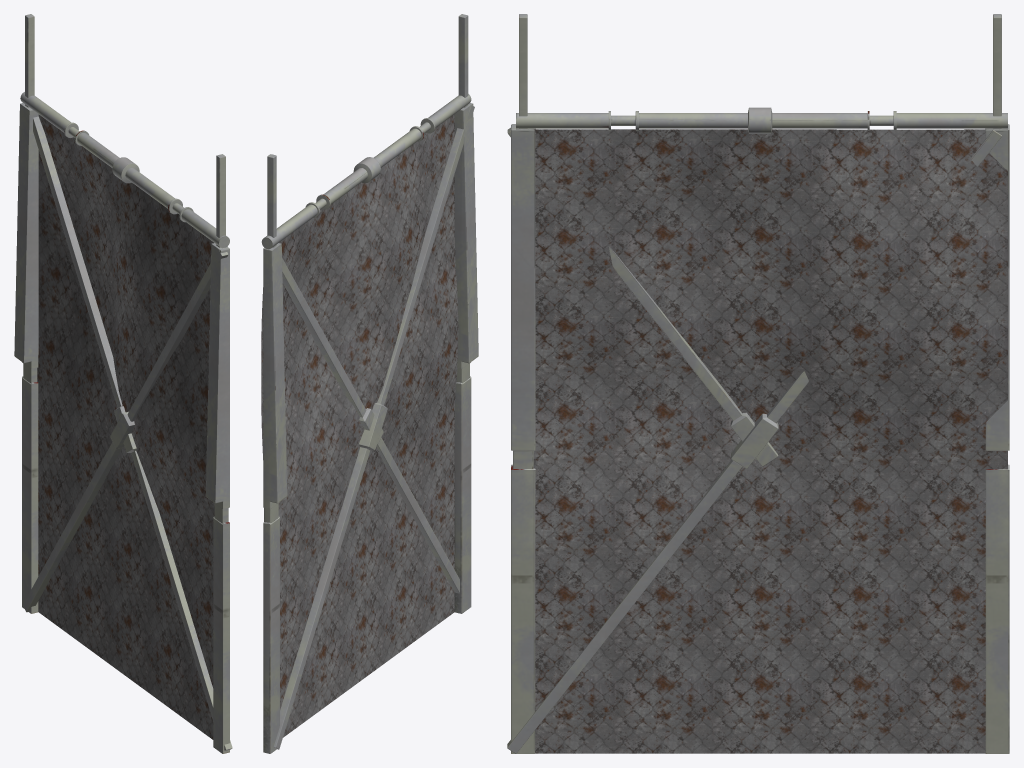
File: SM_Wire_Fence.fbx
3 renders of one model, left to right at view 1: azimuth 30°, elevation 25°; view 2: azimuth 150°, elevation 25°; view 3: azimuth 270°, elevation 25°, orthographic. The views are drawn at different scales.
Visible parts, largest first — view 1: SM_Wire_Fence_LOD0; view 2: SM_Wire_Fence_LOD0; view 3: SM_Wire_Fence_LOD0.
Part boxes in pixels (<box>): SM_Wire_Fence_LOD0: <box>14,14,232,753</box>; SM_Wire_Fence_LOD0: <box>261,14,478,753</box>; SM_Wire_Fence_LOD0: <box>507,14,1009,753</box>.
Bounding box in the file's own units: 14.02 × 204 × 330.
Materials: 2 (2 with a texture image).
